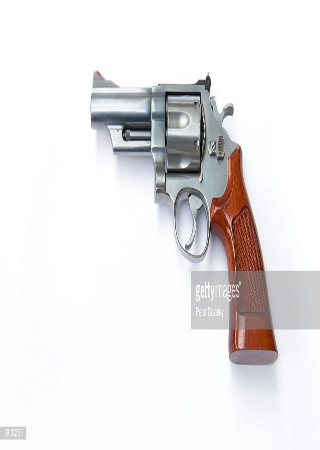handgun: (88, 66, 280, 366)
